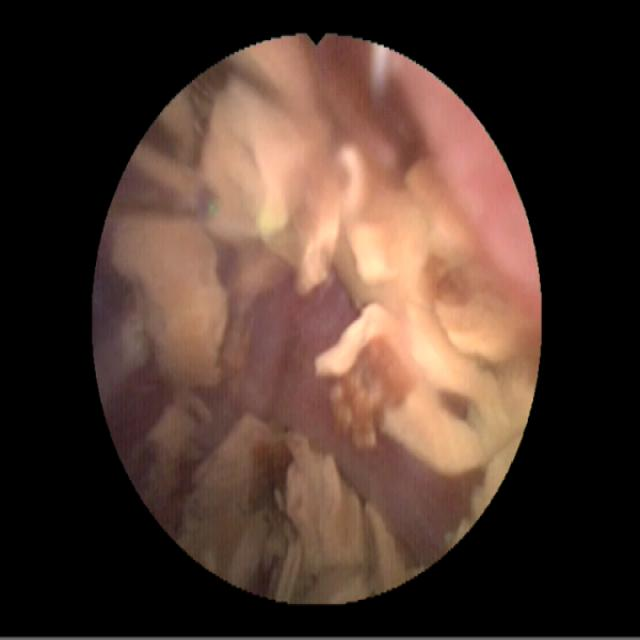stone: (204, 42, 535, 538), (178, 417, 425, 599), (111, 203, 227, 385), (134, 62, 227, 207), (147, 389, 215, 503)
